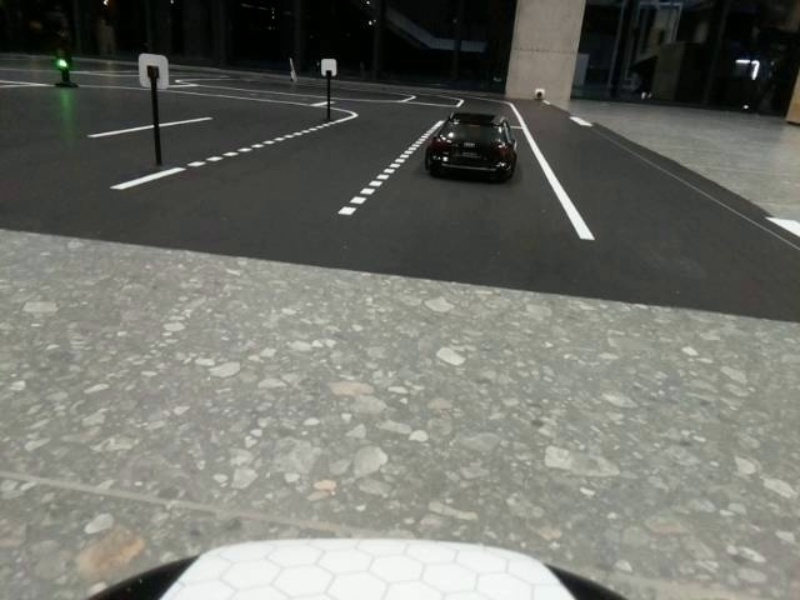car: (426, 113, 523, 198)
